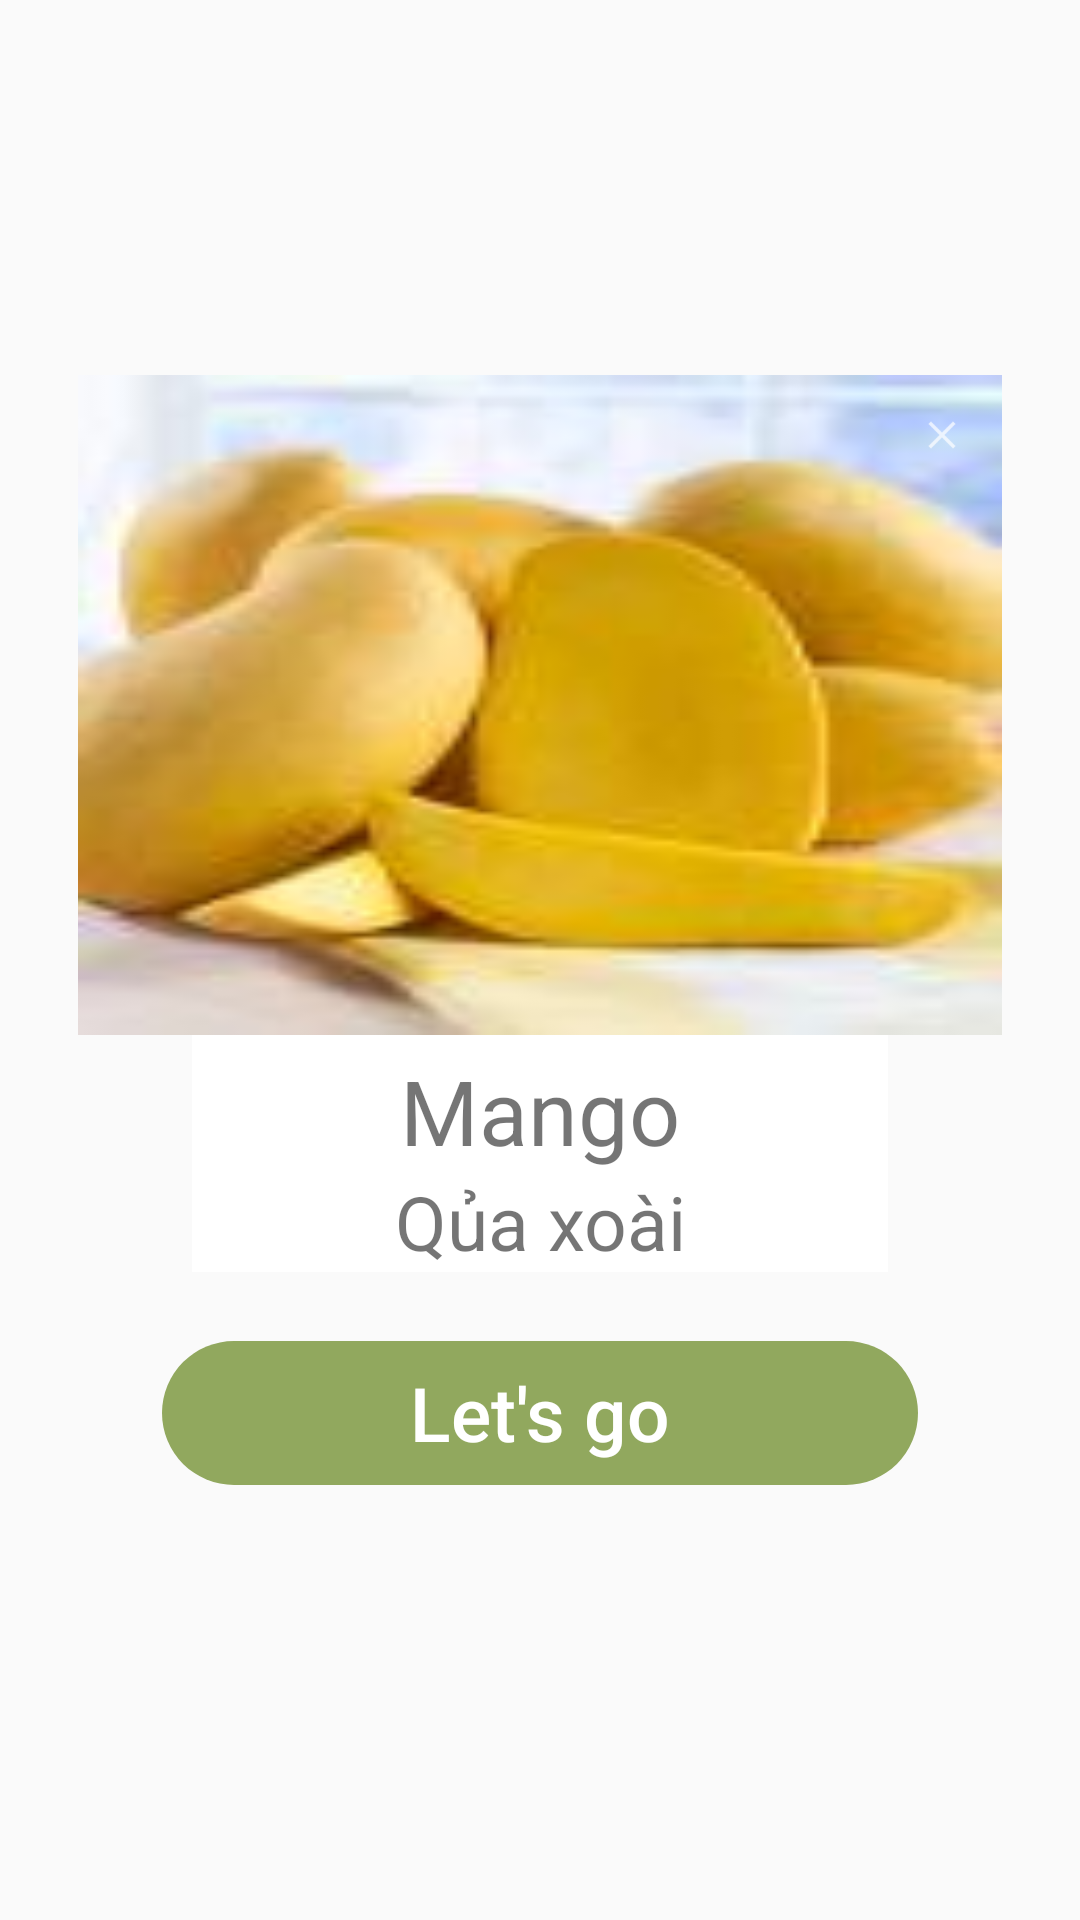

Screen size 1080w x 1920h. Icon name, then its center in pixels as (x,y):
close: (942,435)
